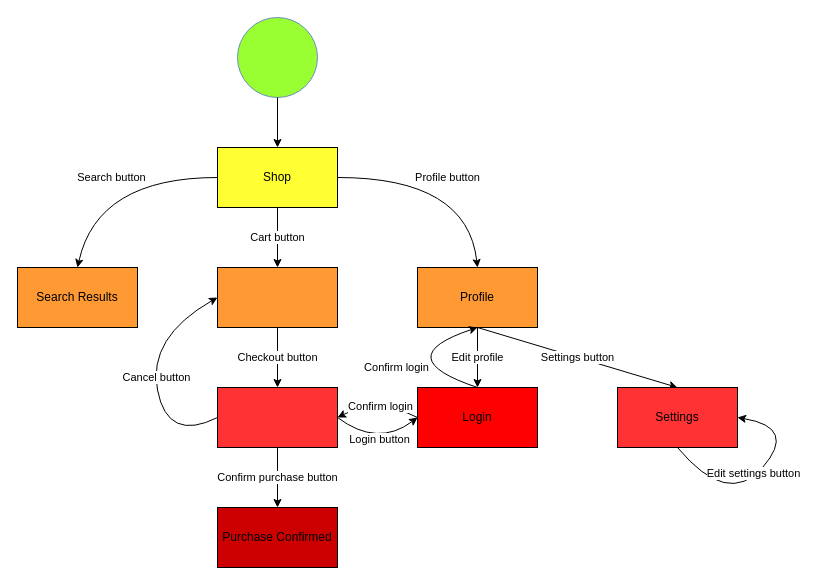
This 818x585 diagram has some shape labels left out. The centre of each missing label's shape, as x and y in pixels:
Cart: (277,297)
Checkout: (277,417)
Home: (277,57)
